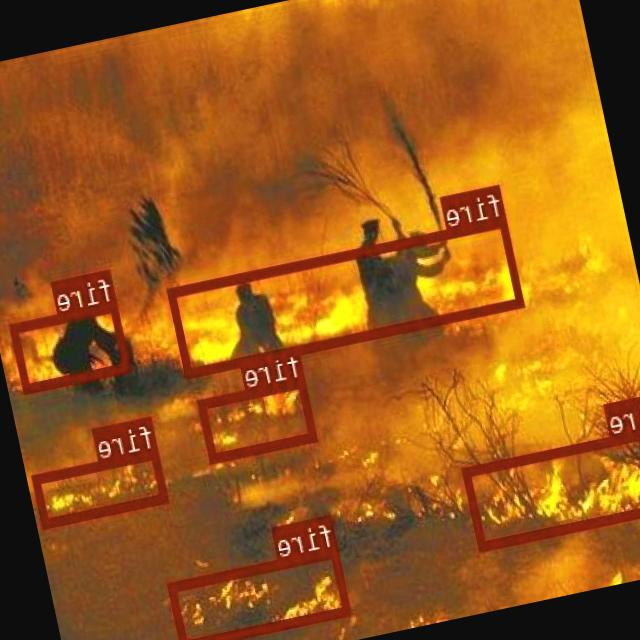fire: (168, 216, 525, 376), (462, 422, 640, 549), (168, 545, 350, 640), (11, 300, 131, 392), (33, 448, 169, 525), (198, 376, 319, 461)
